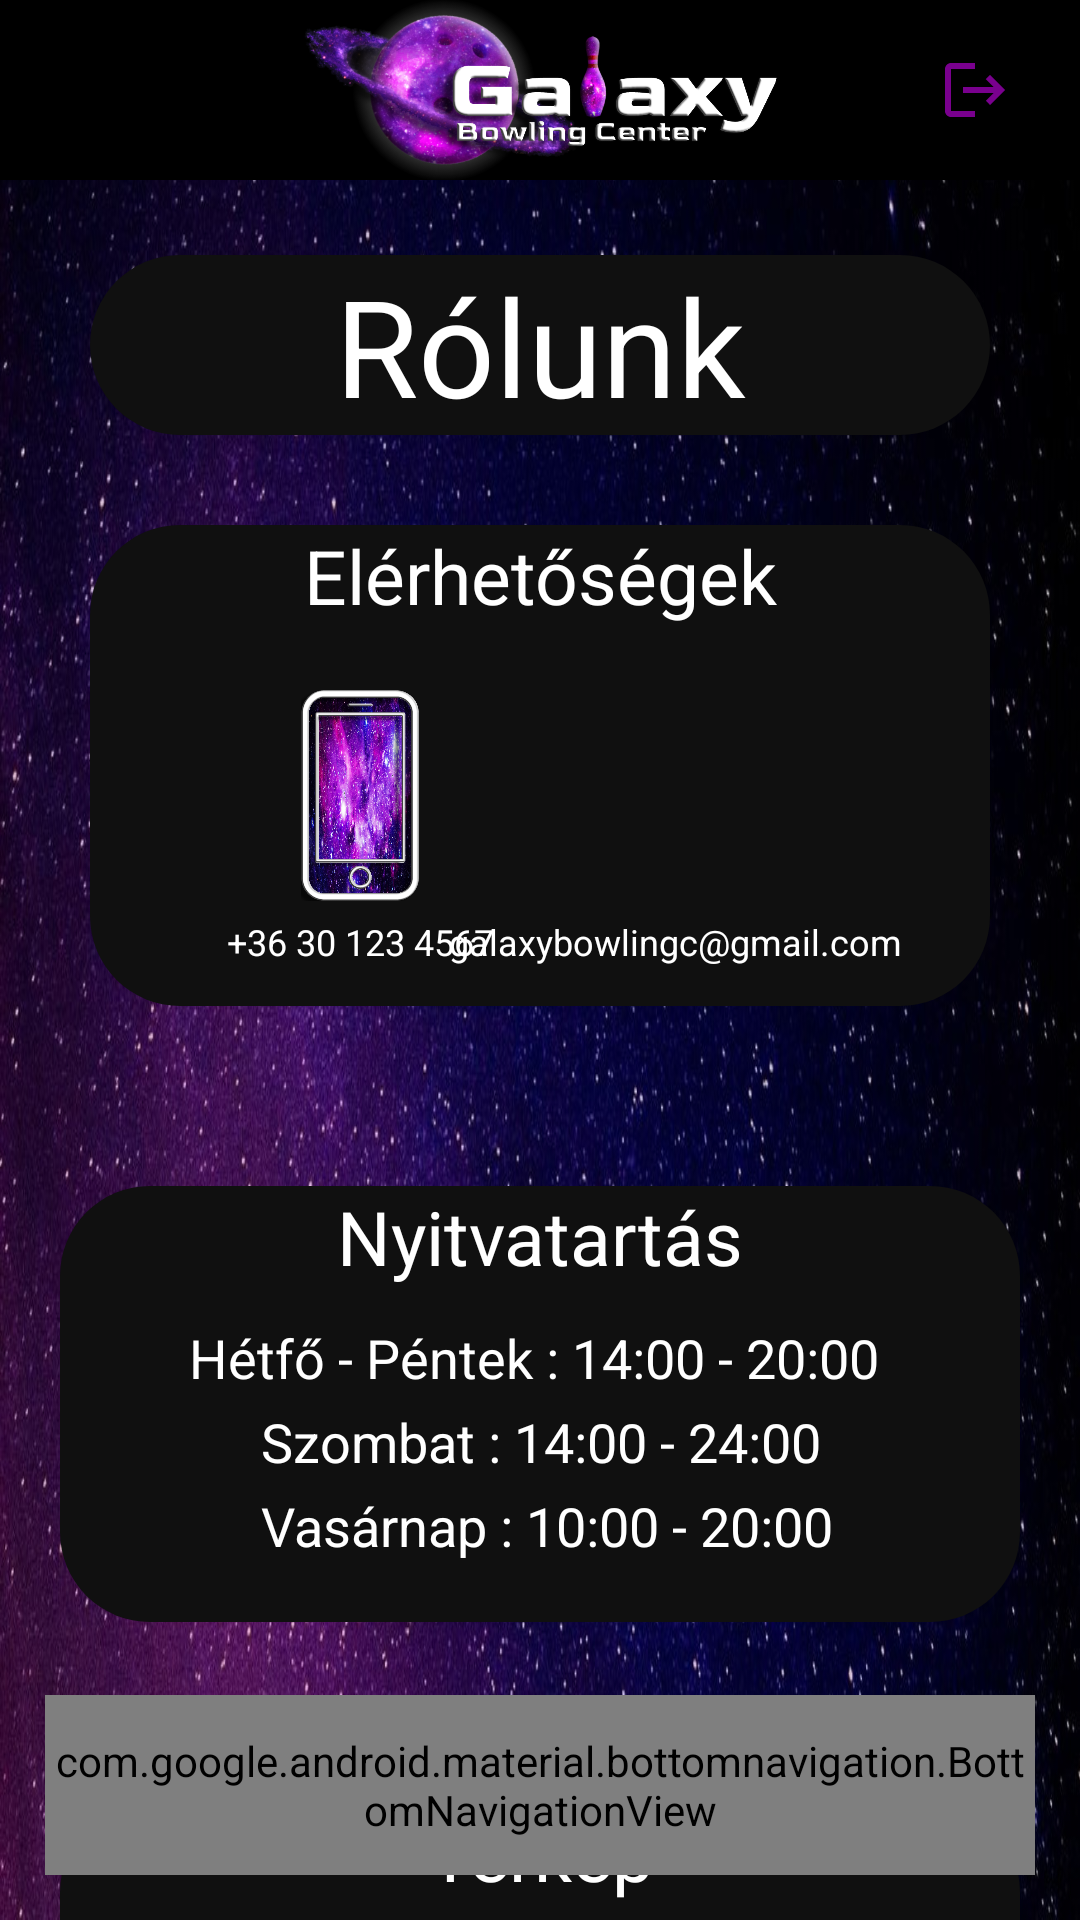

Where to tap for icons on this 1080px×1920px app screen, as point (x, y):
Kijelentkezés: point (975, 90)
Telefon: point (360, 795)
